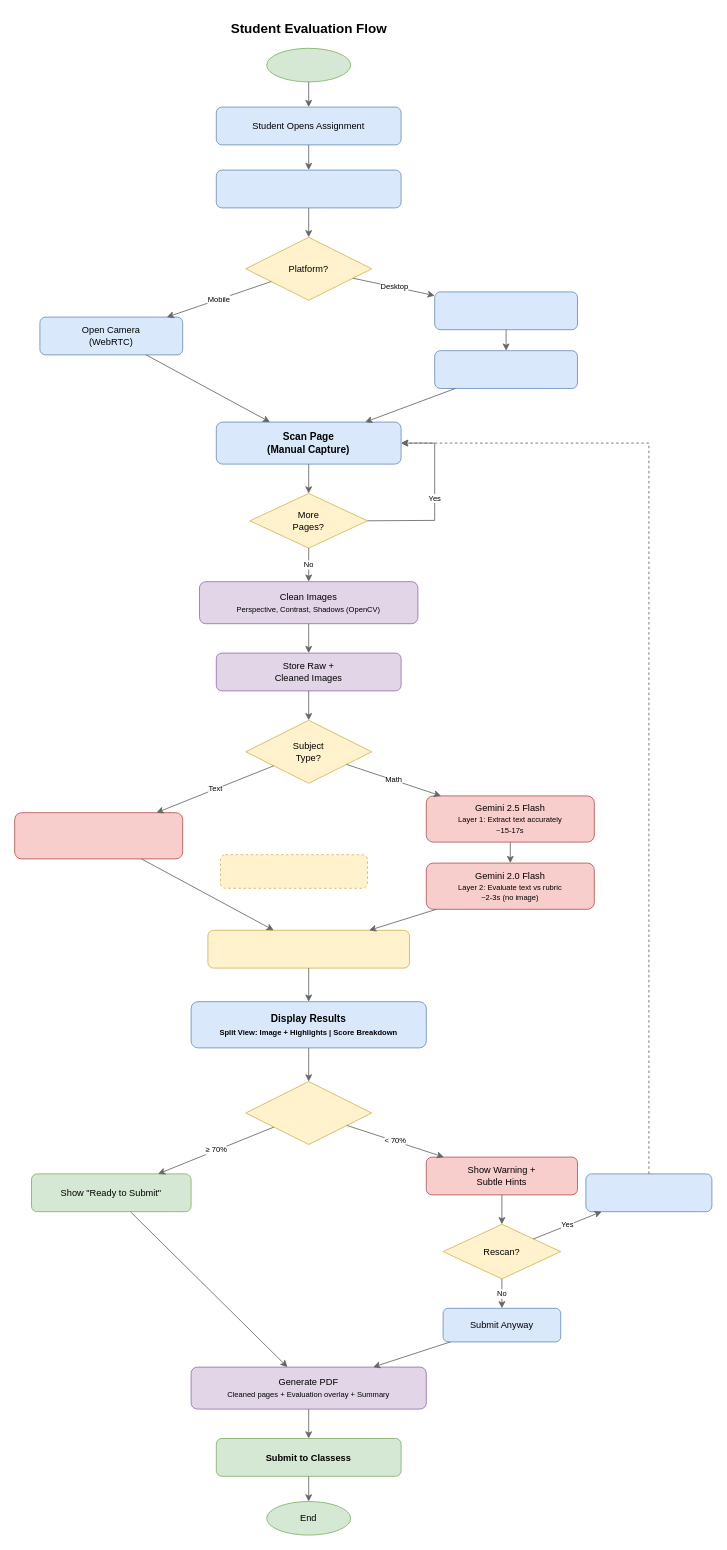
Image size: 727x1550. Some labels were removed from this diagram. Here are the shapes that lost their labels. From the top down, the centre of each, then its label:
the point at 308,64: Start
the point at 308,188: Click "Scan" Button
the point at 506,310: Generate QR Code
the point at 506,369: Phone Connects via WebSocket
the point at 98,835: Gemini 2.0 Flash Single call: Read + Evaluate ~3-4s
the point at 294,871: Ink Detection Parallel ~100ms
the point at 308,948: Map Results to Bounding Box Regions
the point at 308,1112: Score ≥ 70%?
the point at 648,1192: Select Pages to Rescan
